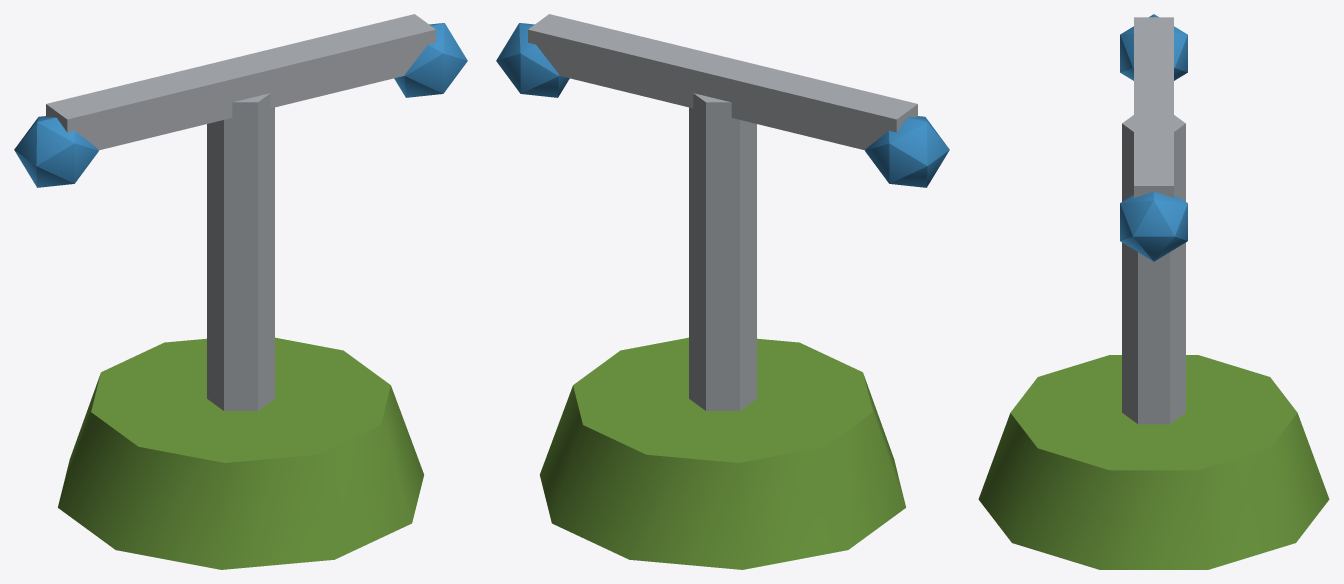
The model's file is sprinkler.glb.
The picture shows the model from 3 angles, left to right: view 1: azimuth 30°, elevation 25°; view 2: azimuth 150°, elevation 25°; view 3: azimuth 270°, elevation 25°; orthographic projection. The views are drawn at different scales.
Visible parts, largest first — view 1: decor-sprinkler; view 2: decor-sprinkler; view 3: decor-sprinkler.
Boxes of the visible parts, box(x1,y1,x2,y2) form: decor-sprinkler: box(14, 14, 467, 569); decor-sprinkler: box(496, 14, 949, 569); decor-sprinkler: box(978, 14, 1329, 569).
Bounding box in the file's own units: 0.5851 × 0.55 × 0.44.
